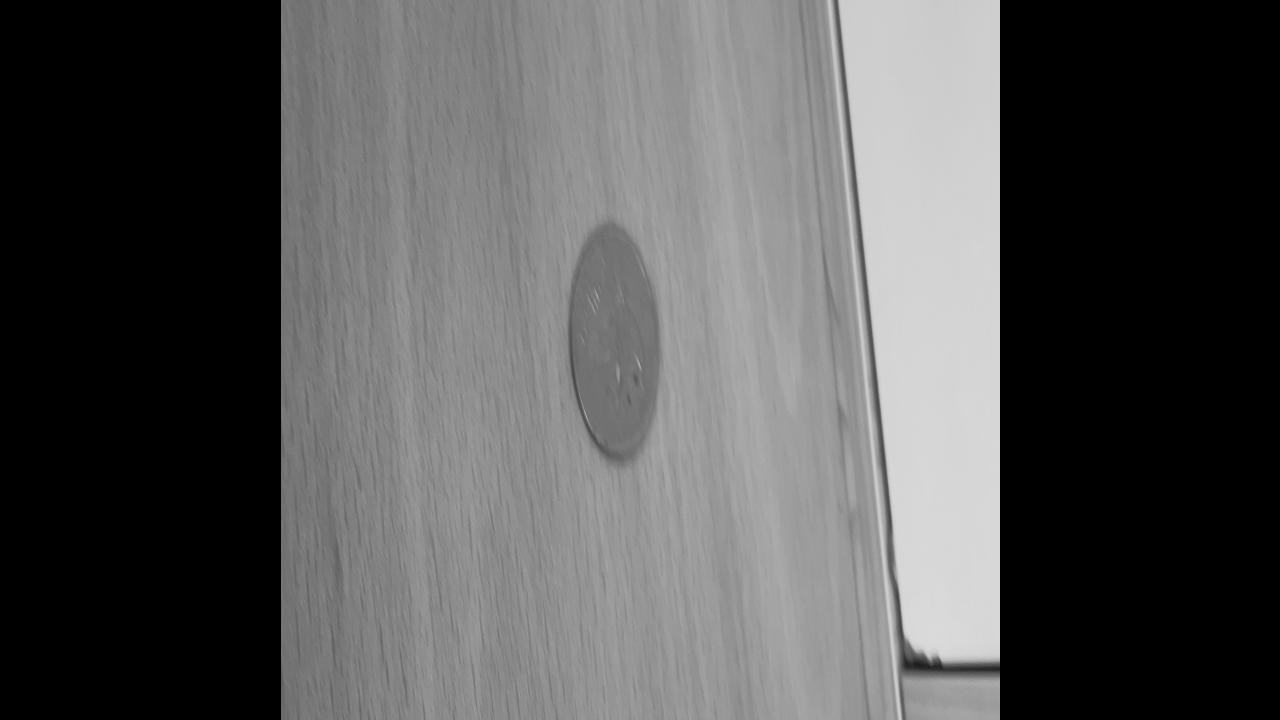coin: (566, 215, 662, 464)
